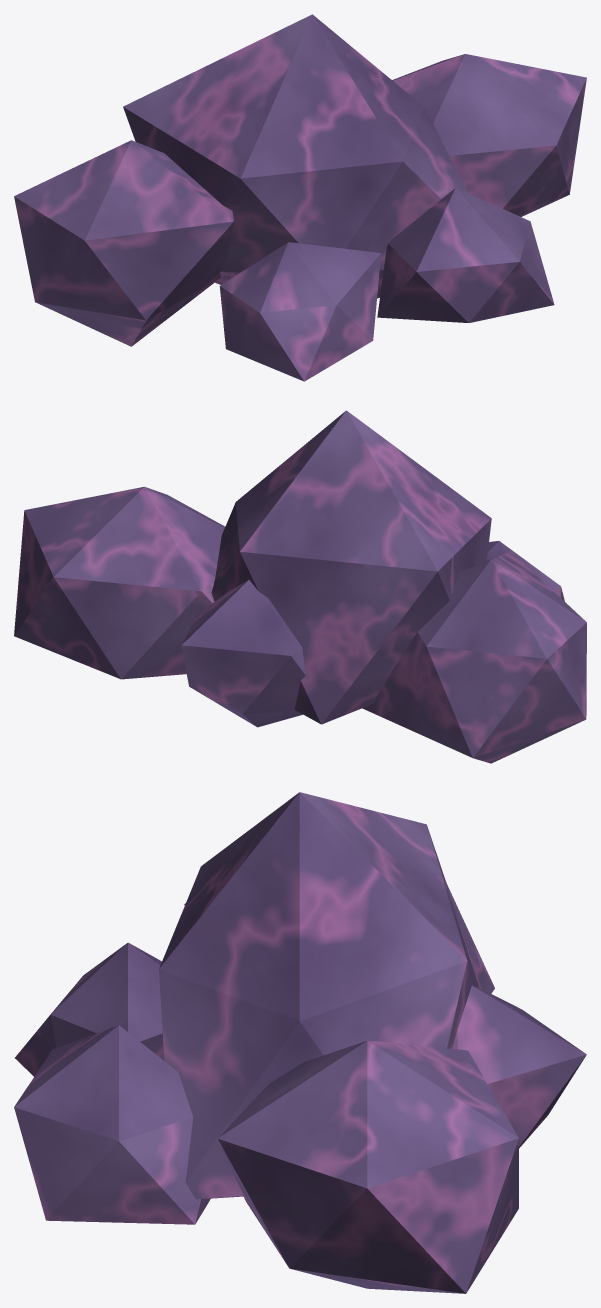
File: GIN_UG_RockPile.fbx
The picture shows the model from 3 angles, top to bottom: view 1: azimuth 30°, elevation 25°; view 2: azimuth 150°, elevation 25°; view 3: azimuth 270°, elevation 25°; orthographic projection. The views are drawn at different scales.
Visible parts, largest first — view 1: GIN_UG_RockPile; view 2: GIN_UG_RockPile; view 3: GIN_UG_RockPile.
Part boxes in pixels (x1,y1,x2,y2): GIN_UG_RockPile: (14,14,586,381); GIN_UG_RockPile: (14,410,586,763); GIN_UG_RockPile: (14,792,586,1293).
Size of the model in its own units: 1.88 by 0.9798 by 1.27.
